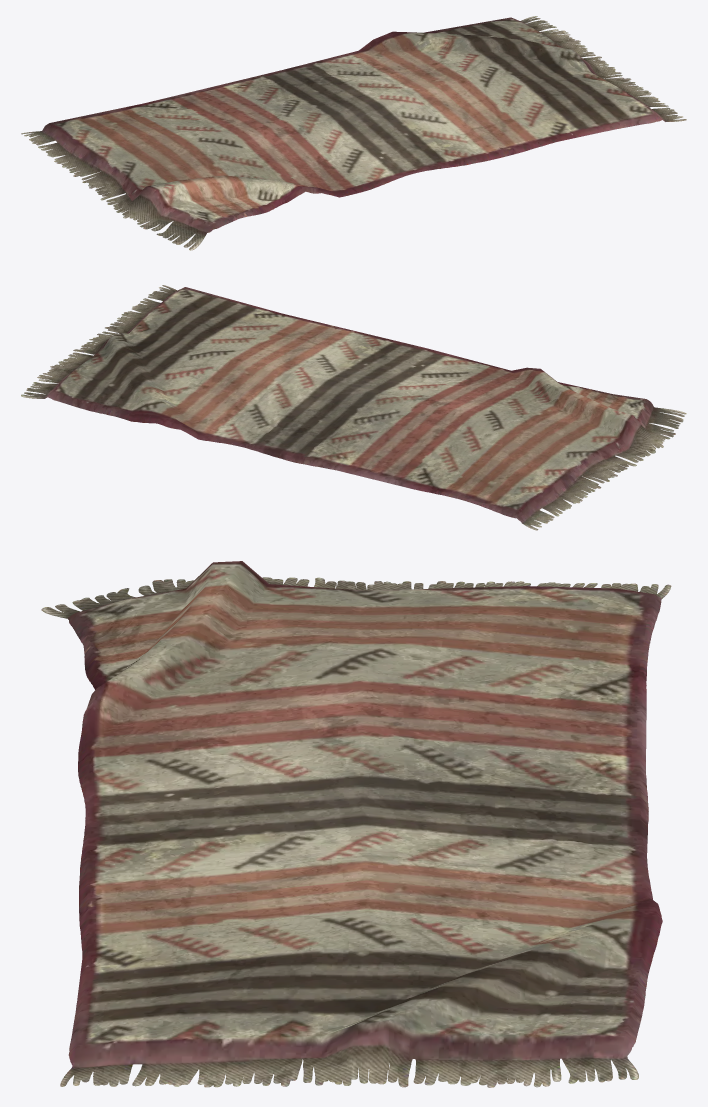
3 views of the same model, one above another, from view 1: azimuth 30°, elevation 25°; view 2: azimuth 150°, elevation 25°; view 3: azimuth 270°, elevation 25° (orthographic). The views are drawn at different scales.
Visible parts, largest first — view 1: SM_Moon_Garou_Decoration_Carpet_02_LOD0; view 2: SM_Moon_Garou_Decoration_Carpet_02_LOD0; view 3: SM_Moon_Garou_Decoration_Carpet_02_LOD0.
Boxes of the visible parts, x1,y1,x2,y2 form: SM_Moon_Garou_Decoration_Carpet_02_LOD0: [21, 16, 686, 250]; SM_Moon_Garou_Decoration_Carpet_02_LOD0: [21, 285, 686, 530]; SM_Moon_Garou_Decoration_Carpet_02_LOD0: [41, 561, 671, 1087].
Size of the model in its own units: 2.63 by 0.1394 by 1.38.
1 material, 1 textured.
